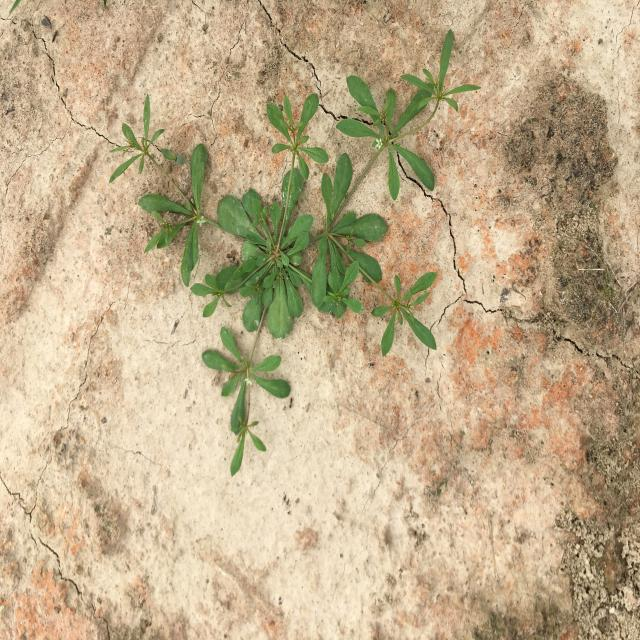Carpetweed: (109, 29, 481, 478)
